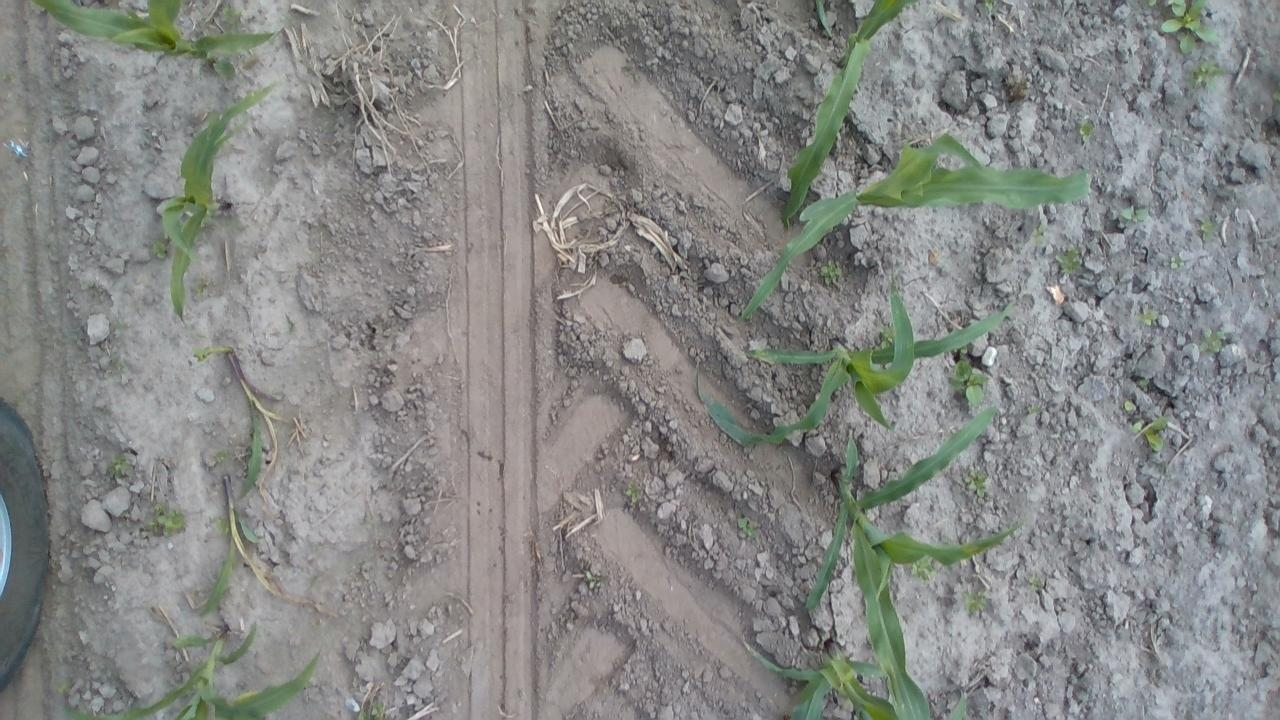Maize: (730, 129, 1090, 331), (804, 401, 1022, 720), (691, 269, 1013, 450), (152, 80, 278, 332), (784, 0, 920, 232), (59, 622, 321, 720), (32, 0, 280, 86), (740, 639, 969, 720), (196, 346, 292, 496), (198, 471, 262, 616), (813, 0, 835, 41)
Weeds: (1162, 1, 1218, 57), (947, 361, 987, 406), (147, 501, 184, 541), (1185, 61, 1227, 94), (1137, 414, 1170, 452), (1054, 246, 1084, 278), (1198, 326, 1226, 356), (962, 584, 988, 616), (964, 468, 990, 499), (819, 258, 844, 288), (1120, 207, 1148, 232), (106, 452, 130, 481), (356, 699, 386, 720), (910, 558, 934, 584), (1134, 304, 1160, 326), (1079, 115, 1098, 144), (624, 480, 645, 506), (1200, 214, 1218, 241), (216, 4, 240, 24), (151, 236, 170, 260), (737, 516, 757, 538), (583, 569, 603, 590), (1027, 572, 1045, 594), (879, 324, 894, 350), (1169, 256, 1190, 272), (1030, 224, 1044, 246), (194, 279, 211, 297), (214, 515, 228, 533), (214, 448, 226, 463), (1272, 81, 1280, 103), (1123, 398, 1136, 411), (1027, 402, 1042, 413), (1, 72, 12, 86), (986, 0, 998, 12), (1136, 378, 1150, 388), (1133, 420, 1142, 430), (1150, 0, 1156, 8)
